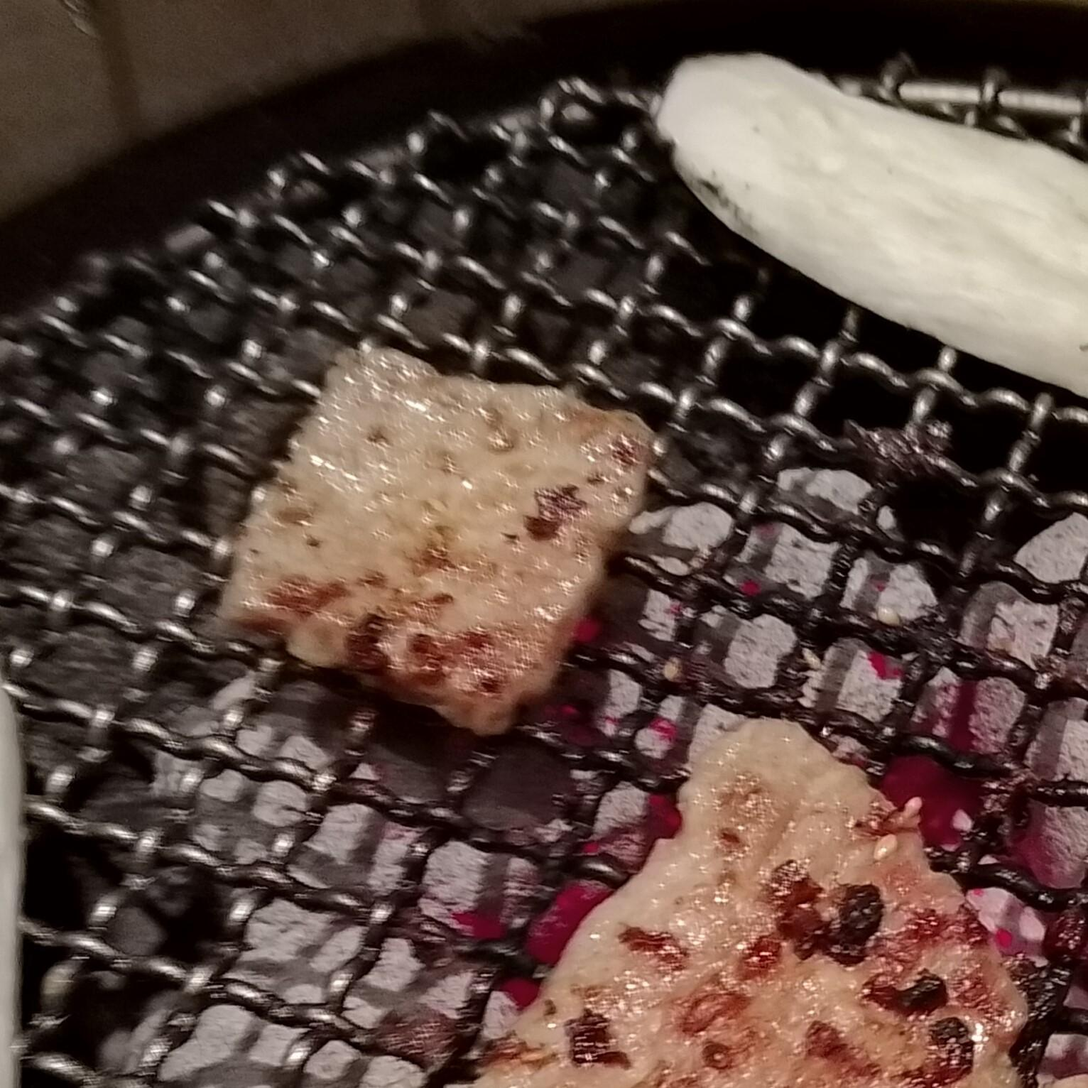Overcooked: (475, 719, 1028, 1087)
Well-Cooked: (219, 349, 654, 734)
